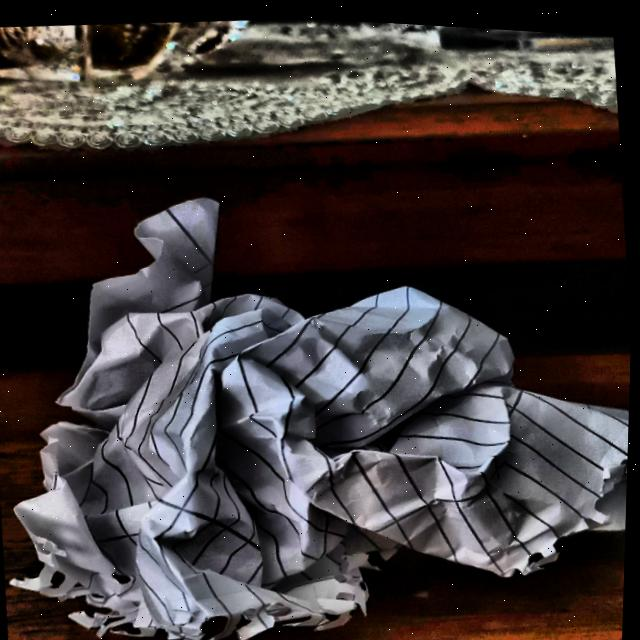paper: (0, 183, 636, 640)
